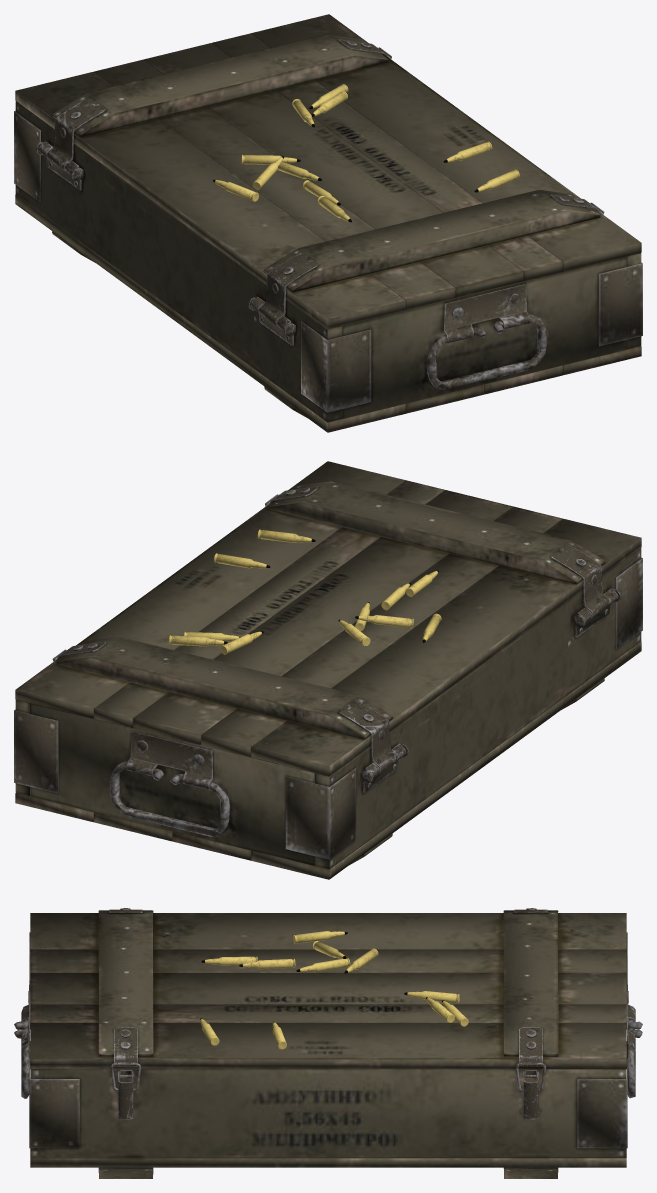
File: ammocrate.glb
The picture shows the model from 3 angles, top to bottom: view 1: azimuth 30°, elevation 25°; view 2: azimuth 150°, elevation 25°; view 3: azimuth 270°, elevation 25°; orthographic projection. The views are drawn at different scales.
Visible parts, largest first — view 1: top and bottom_Material_0, main body_main body_0, beams_Material.003_0, corner metal_Material.001_0, Plane.009_Material.002_0, handles.001_Material.004_0, Cylinder.024_bullet_0; view 2: top and bottom_Material_0, main body_main body_0, beams_Material.003_0, corner metal_Material.001_0, Plane.009_Material.002_0, handles.001_Material.004_0, Cylinder.024_bullet_0; view 3: top and bottom_Material_0, main body_main body_0, beams_Material.003_0, corner metal_Material.001_0, Plane.009_Material.002_0, Cylinder.024_bullet_0, handles.001_Material.004_0, Cylinder.024_bullet top_0.
Boxes of the visible parts, x1,y1,x2,y2 form: top and bottom_Material_0: [15, 14, 641, 432]; main body_main body_0: [15, 101, 641, 421]; beams_Material.003_0: [52, 34, 600, 417]; corner metal_Material.001_0: [14, 110, 642, 412]; Plane.009_Material.002_0: [36, 39, 604, 345]; handles.001_Material.004_0: [427, 284, 546, 389]; Cylinder.024_bullet_0: [220, 84, 519, 219]; top and bottom_Material_0: [15, 461, 641, 879]; main body_main body_0: [15, 548, 641, 868]; beams_Material.003_0: [56, 481, 604, 864]; corner metal_Material.001_0: [14, 557, 642, 859]; Plane.009_Material.002_0: [52, 486, 620, 792]; handles.001_Material.004_0: [110, 731, 229, 836]; Cylinder.024_bullet_0: [169, 529, 441, 654]; top and bottom_Material_0: [30, 913, 626, 1167]; main body_main body_0: [30, 1068, 626, 1157]; beams_Material.003_0: [98, 910, 558, 1178]; corner metal_Material.001_0: [29, 932, 627, 1148]; Plane.009_Material.002_0: [109, 908, 547, 1119]; Cylinder.024_bullet_0: [201, 931, 468, 1049]; handles.001_Material.004_0: [14, 980, 642, 1098]; Cylinder.024_bullet top_0: [200, 931, 447, 1026].
Size of the model in its own units: 0.3655 by 0.1667 by 0.62.
8 materials, 8 textured.
